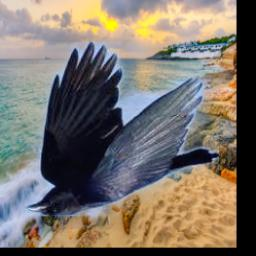Crow: (26, 43, 220, 217)
